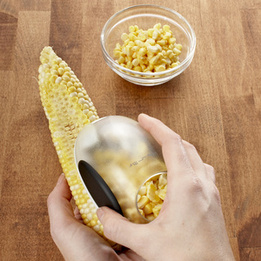corn: (36, 44, 123, 254)
